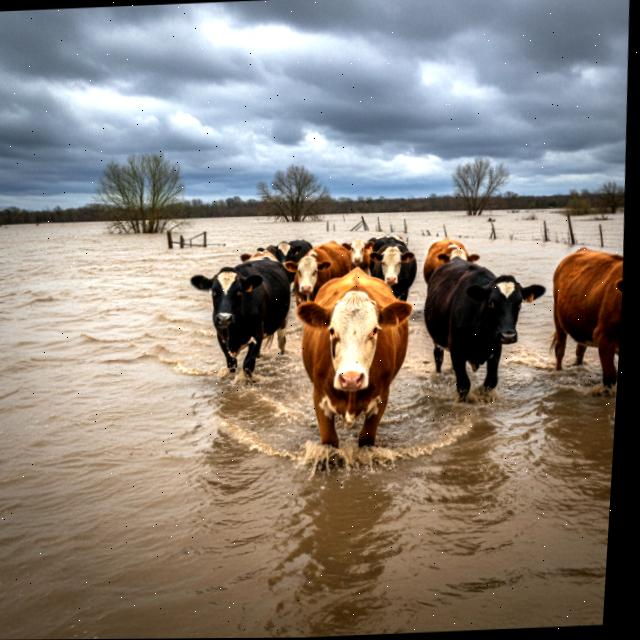cow: (284, 261, 427, 460), (413, 241, 553, 401), (177, 251, 298, 387), (542, 235, 626, 402), (279, 236, 358, 300), (366, 227, 423, 307), (421, 232, 481, 288), (262, 236, 315, 271), (337, 236, 380, 275)
